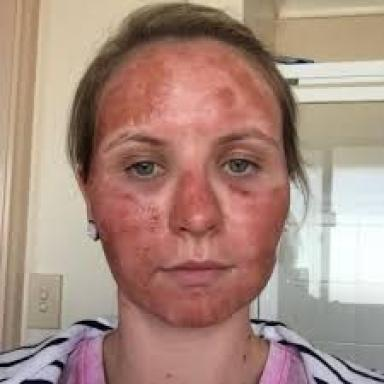burn: (84, 39, 287, 323)
